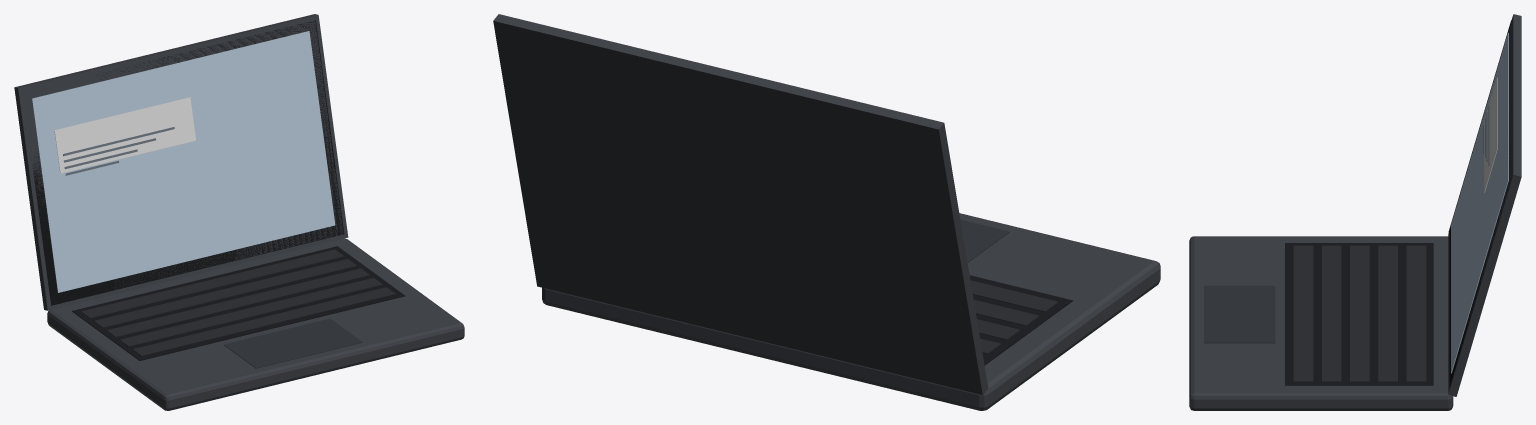
File: laptop_lap.glb
3 renders of one model, left to right at view 1: azimuth 30°, elevation 25°; view 2: azimuth 150°, elevation 25°; view 3: azimuth 270°, elevation 25°, orthographic. The views are drawn at different scales.
Parts seen in each view (by area): view 1: laptop_lap_vc; view 2: laptop_lap_vc; view 3: laptop_lap_vc.
Part boxes in pixels (x1,y1,x2,y2): laptop_lap_vc: (14, 14, 464, 410); laptop_lap_vc: (493, 14, 1160, 410); laptop_lap_vc: (1189, 14, 1521, 410).
Bounding box in the file's own units: 0.31 × 0.214 × 0.2708.
